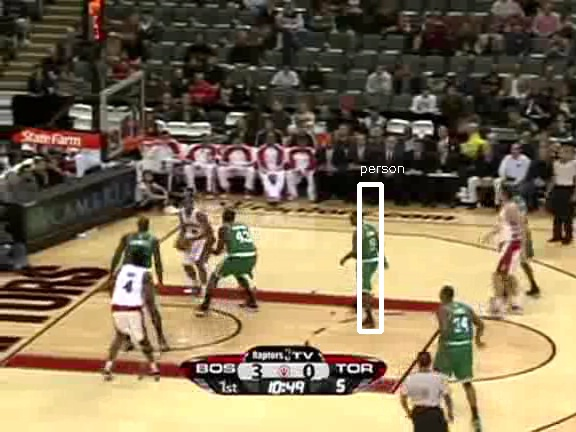person: (352, 217, 386, 298), (351, 217, 385, 298), (353, 217, 387, 298), (352, 216, 386, 297), (352, 218, 386, 299)
target_negative: (337, 161, 576, 275), (179, 6, 276, 74), (107, 232, 146, 395), (221, 187, 225, 316), (528, 234, 541, 266), (562, 363, 571, 396)
